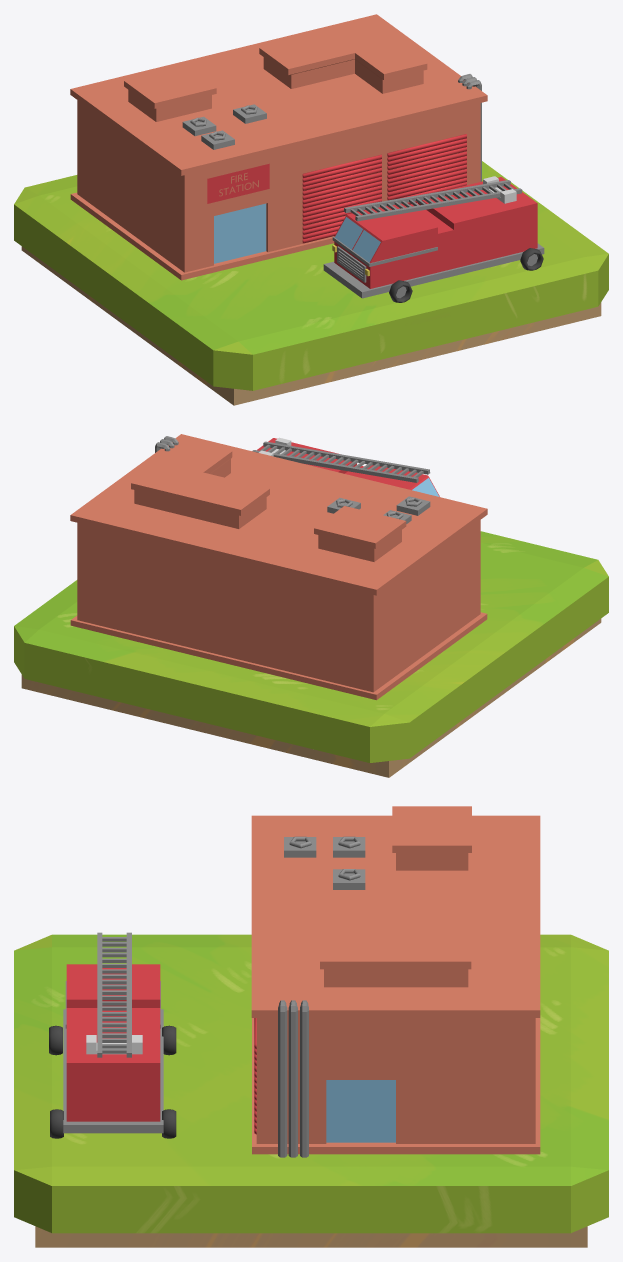
The model's file is gemeinde_feuerwehr.fbx.
The picture shows the model from 3 angles, top to bottom: view 1: azimuth 30°, elevation 25°; view 2: azimuth 150°, elevation 25°; view 3: azimuth 270°, elevation 25°; orthographic projection. The views are drawn at different scales.
Visible parts, largest first — view 1: Cube, Cube.022, wagen, rot, Cube.021, fenstertue, leiter, Cube.002, Plane, oben, fenster vorne, raeder (+1 smaller); view 2: Cube, Cube.022, Cube.021, leiter, wagen, oben; view 3: Cube.022, Cube, wagen, Cube.021, rechts, fenstertue, leiter, Cube.002, oben, raeder.
Boxes of the visible parts, x1,y1,x2,y2 form: Cube: [70, 14, 487, 280]; Cube.022: [14, 161, 608, 390]; wagen: [334, 177, 537, 288]; rot: [302, 134, 466, 243]; Cube.021: [21, 246, 601, 405]; fenstertue: [214, 203, 266, 263]; leiter: [344, 180, 522, 221]; Cube.002: [323, 243, 544, 298]; Plane: [207, 163, 269, 203]; oben: [182, 104, 266, 149]; fenster vorne: [335, 217, 380, 262]; raeder: [389, 248, 543, 302]; Cube: [70, 434, 487, 700]; Cube.022: [14, 531, 608, 762]; Cube.021: [21, 618, 601, 777]; leiter: [252, 441, 430, 482]; wagen: [257, 438, 439, 496]; oben: [327, 496, 430, 523]; Cube.022: [14, 934, 608, 1233]; Cube: [251, 806, 540, 1154]; wagen: [66, 964, 160, 1121]; Cube.021: [35, 1226, 587, 1247]; rechts: [278, 1000, 308, 1157]; fenstertue: [326, 1080, 395, 1142]; leiter: [97, 932, 131, 1057]; Cube.002: [63, 1009, 163, 1133]; oben: [284, 836, 365, 889]; raeder: [49, 1025, 176, 1138].
Bounding box in the file's own units: 108 × 48.95 × 108.
8 materials, 2 textured.
